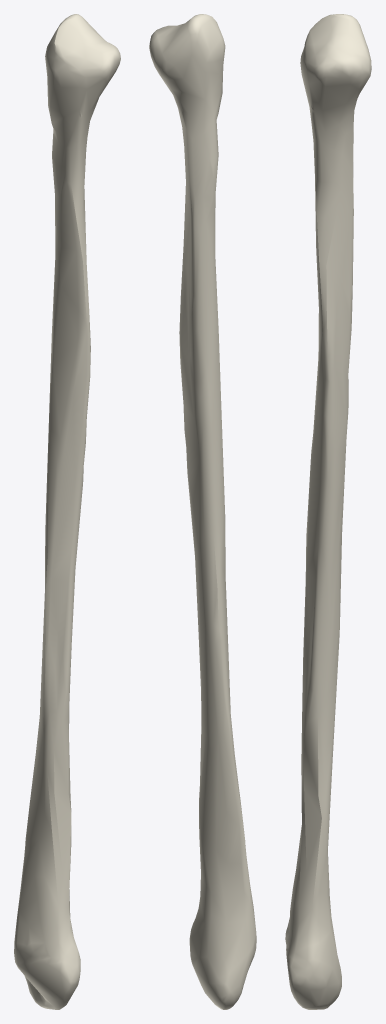
File: fma24481_fj6371.glb
3 views of the same model, side by side, from view 1: azimuth 30°, elevation 25°; view 2: azimuth 210°, elevation 25°; view 3: azimuth 330°, elevation 25° (orthographic).
Parts seen in each view (by area): view 1: FMA24481_FJ6371; view 2: FMA24481_FJ6371; view 3: FMA24481_FJ6371.
Boxes of the visible parts, x1=… form: FMA24481_FJ6371: x1=14, y1=14, x2=120, y2=1009; FMA24481_FJ6371: x1=149, y1=14, x2=256, y2=1009; FMA24481_FJ6371: x1=285, y1=14, x2=371, y2=1009.
Size of the model in its own units: 0.0358 by 0.3841 by 0.0297.
